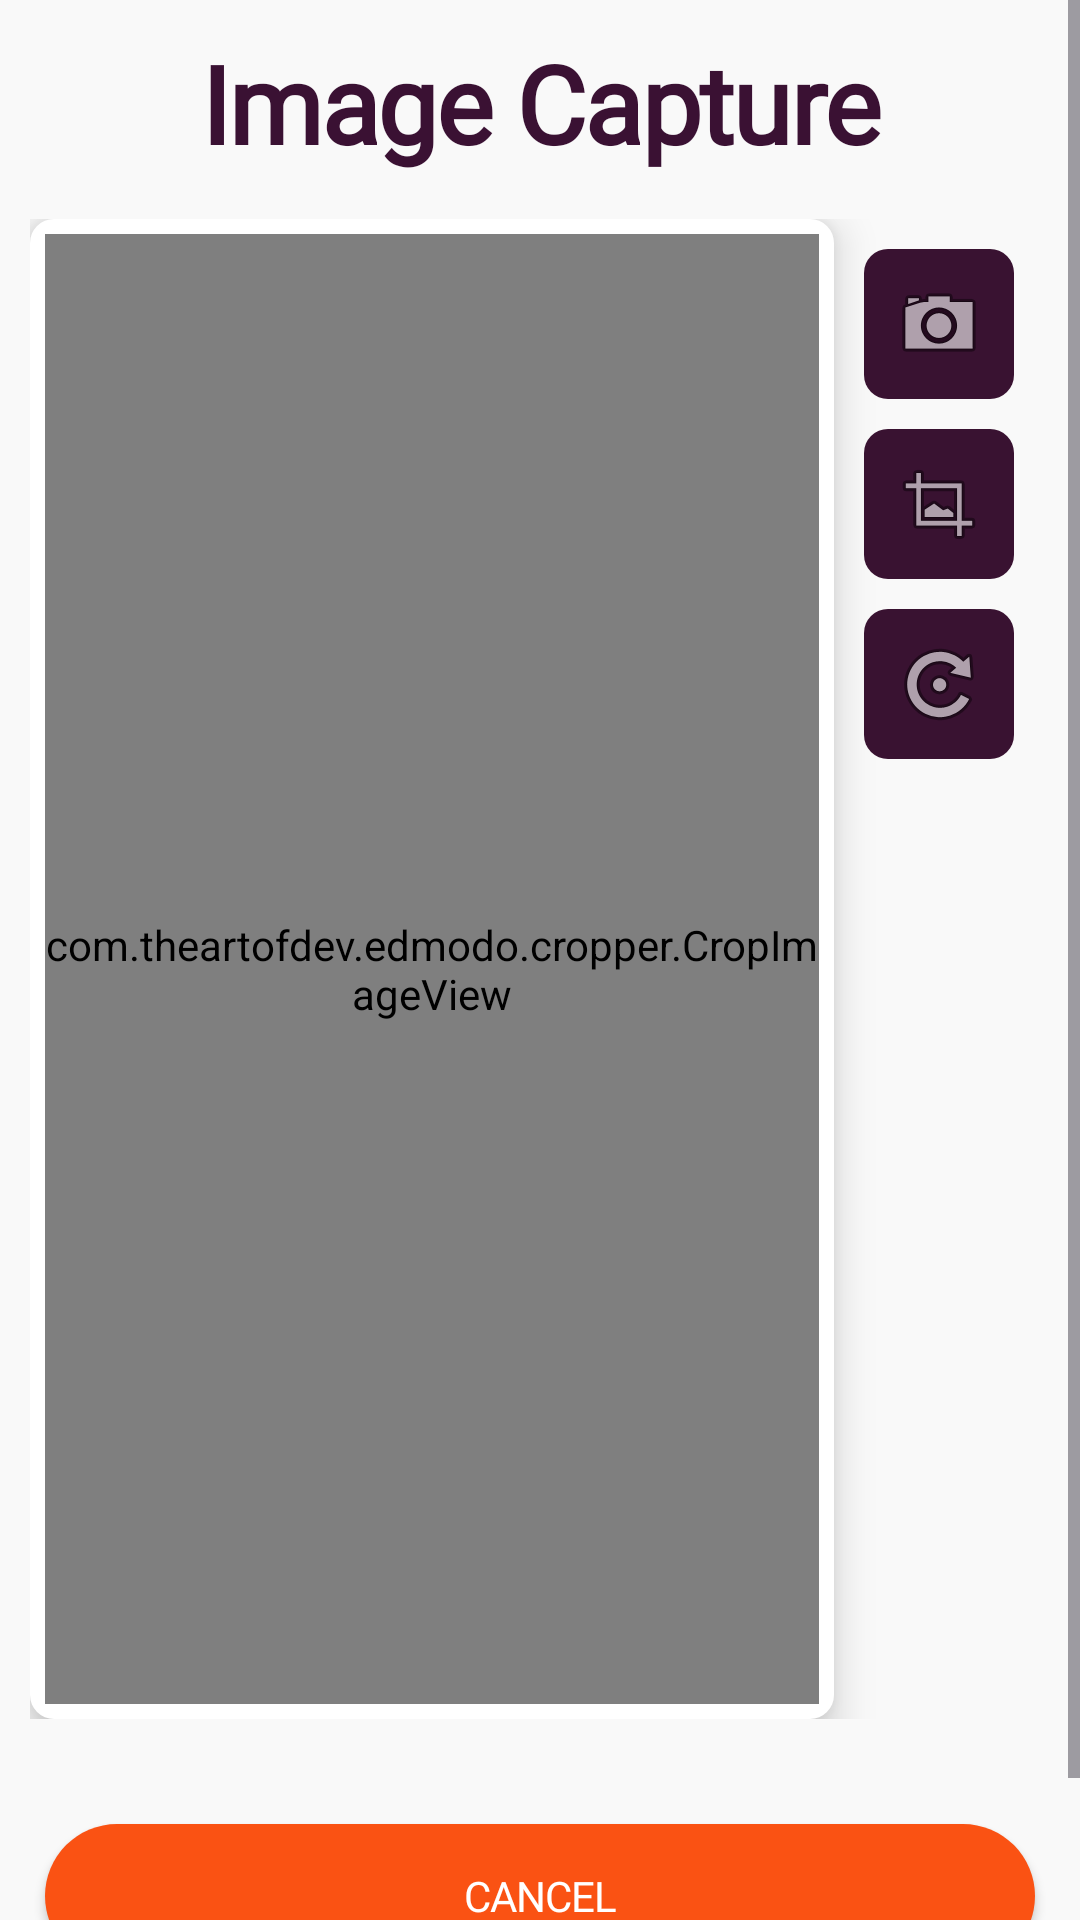

Named icons in this screenshot (1080 x 1920) and their centers, (x=x, y=y):
camera: (x=939, y=324)
rotate: (x=939, y=684)
